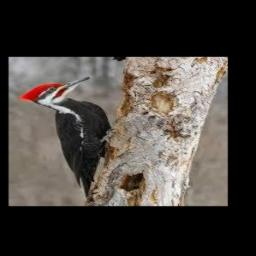Woodpecker: (19, 76, 112, 199)
